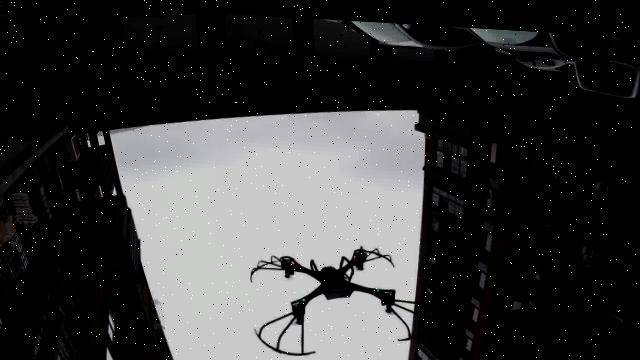drone: (222, 237, 439, 360)
